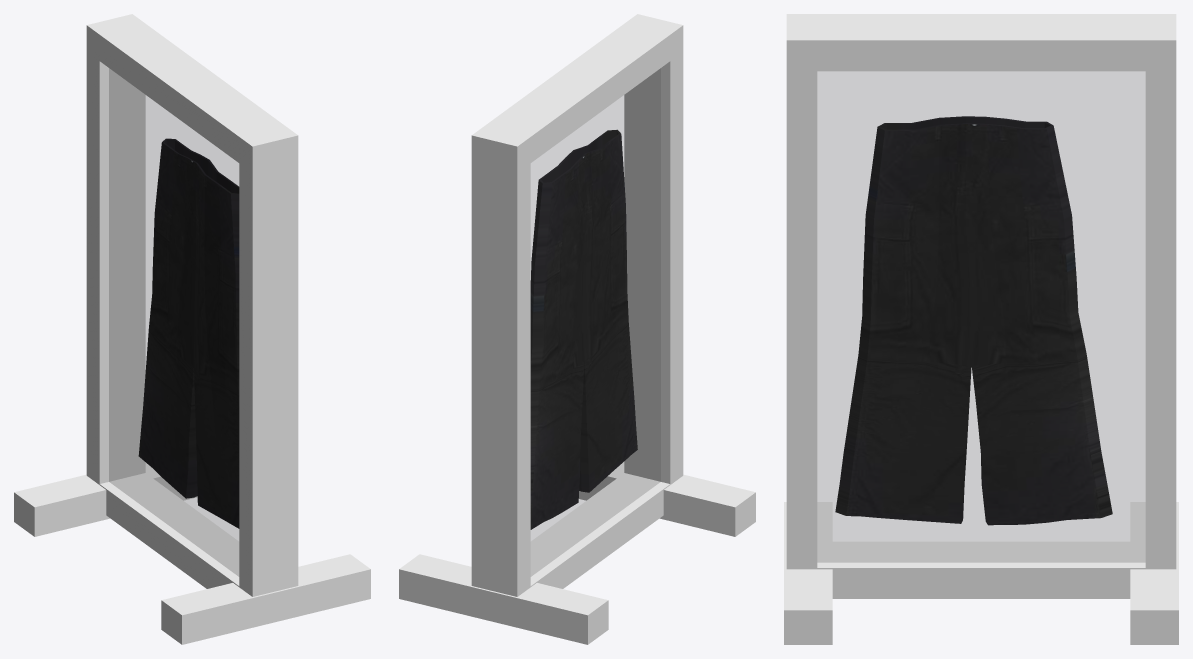
The model's file is cargo_black.gltf.
3 renders of one model, left to right at view 1: azimuth 30°, elevation 25°; view 2: azimuth 150°, elevation 25°; view 3: azimuth 270°, elevation 25°, orthographic. The views are drawn at different scales.
Parts seen in each view (by area): view 1: Cube.054, Plane.004; view 2: Cube.054, Plane.004; view 3: Cube.054, Plane.004.
Boxes of the visible parts, x1=… form: Cube.054: x1=14, y1=14, x2=370, y2=644; Plane.004: x1=138, y1=138, x2=239, y2=528; Cube.054: x1=399, y1=14, x2=755, y2=644; Plane.004: x1=530, y1=129, x2=637, y2=529; Cube.054: x1=784, y1=14, x2=1178, y2=644; Plane.004: x1=835, y1=116, x2=1112, y2=525.
Bounding box in the file's own units: 0.2894 × 0.7029 × 0.4462.
4 materials, 1 textured.
